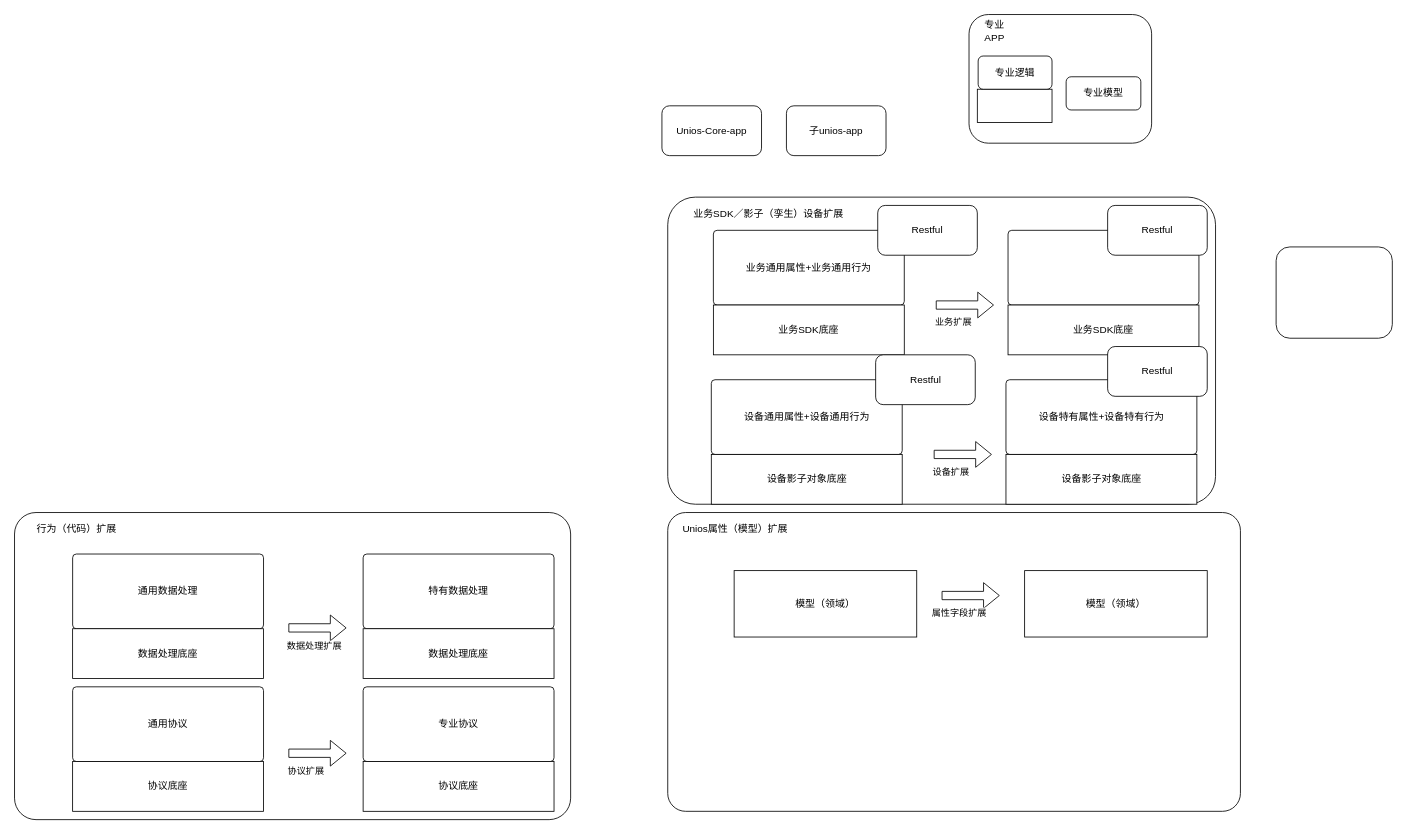
Some shapes in this 1407 by 834 pixel diagram are drawn without their labels. Here are the shapes that lost their labels. From the top down, the box of each, then its label:
(976, 88, 1052, 122): app底座
(1007, 229, 1199, 305): 业务特有属性+业务特有行为
(1275, 246, 1392, 338): 非业务SDK
